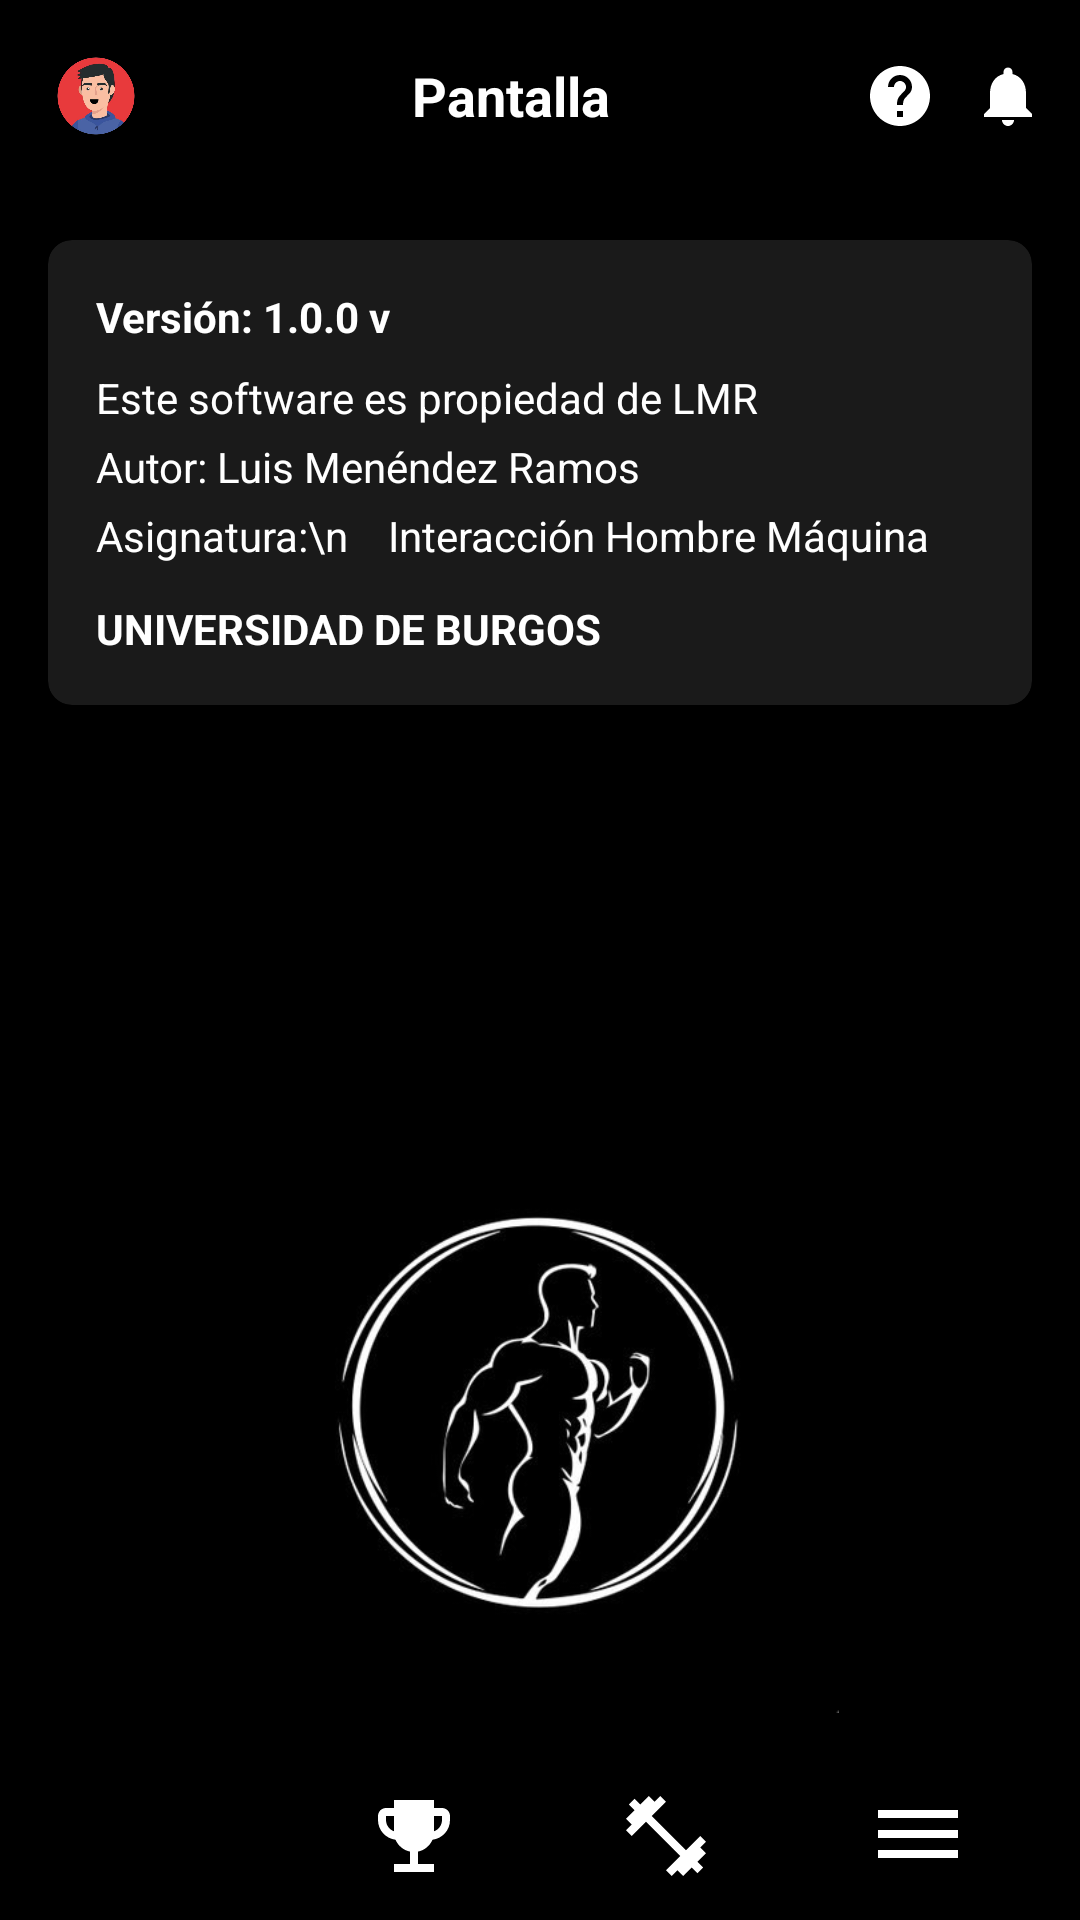

Named icons in this screenshot (1080px x 1920px) and their centers, (x=x, y=y):
Ayuda: (x=900, y=96)
Icono de entrenamiento: (x=666, y=1836)
Icono de logros: (x=414, y=1836)
Icono del menú: (x=918, y=1834)
Notificaciones: (x=1008, y=96)
